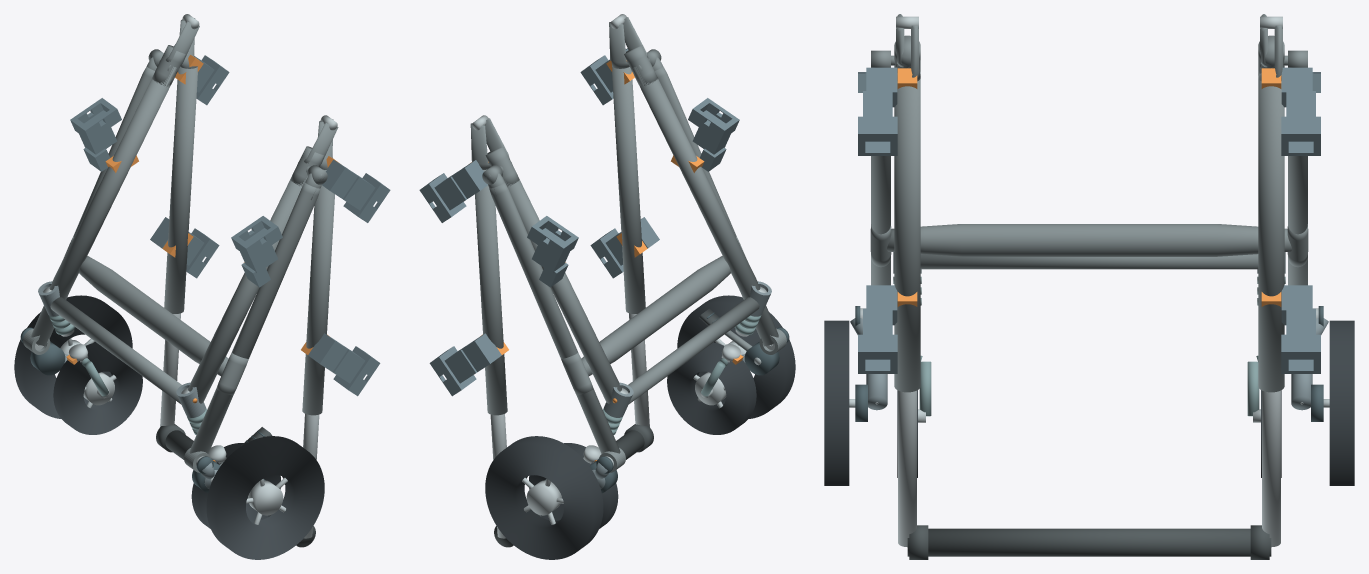
Rendered from w550_state3_wheel_S.glb.
3 views of the same model, side by side, from view 1: azimuth 30°, elevation 25°; view 2: azimuth 150°, elevation 25°; view 3: azimuth 270°, elevation 25° (orthographic). The views are drawn at different scales.
Parts seen in each view (by area): view 1: RL_tire.004, main_upper_1.005, main_lower_1.005, FR_tire.004, V46_rear_leg_-1.005, main_upper_-1.005, V46_rearbar.005, RR_tire.004, main_lower_-1.005, front_fixed_round_tube.004, Universal_Cabin_Receiver_H_-1, Universal_Cabin_Receiver_M_-1 (+18 smaller); view 2: RR_tire.004, main_upper_-1.005, main_lower_-1.005, FL_tire.004, V46_rear_leg_1.005, main_upper_1.005, V46_rearbar.005, main_lower_1.005, RL_tire.004, front_fixed_round_tube.004, Universal_Cabin_Receiver_H_1, Universal_Cabin_Receiver_M_1 (+18 smaller); view 3: V46_rearbar.005, round_handle.004, main_upper_1.005, main_upper_-1.005, front_fixed_round_tube.004, RL_tire.004, RR_tire.004, Universal_Cabin_Receiver_M_-1, Universal_Cabin_Receiver_M_1, Universal_Cabin_Receiver_H_1, Universal_Cabin_Receiver_H_-1, handle_slider_1.004 (+11 smaller).
Boxes of the visible parts, bbox=[...] form: RL_tire.004: bbox=[206, 436, 324, 559]; main_upper_1.005: bbox=[164, 67, 197, 313]; main_lower_1.005: bbox=[49, 66, 176, 299]; FR_tire.004: bbox=[53, 342, 142, 434]; V46_rear_leg_-1.005: bbox=[189, 182, 320, 453]; main_upper_-1.005: bbox=[302, 169, 334, 415]; V46_rearbar.005: bbox=[79, 256, 228, 375]; RR_tire.004: bbox=[14, 295, 132, 418]; main_lower_-1.005: bbox=[188, 177, 307, 403]; front_fixed_round_tube.004: bbox=[50, 297, 181, 404]; Universal_Cabin_Receiver_H_-1: bbox=[308, 333, 380, 396]; Universal_Cabin_Receiver_M_-1: bbox=[322, 159, 390, 222]; RR_tire.004: bbox=[485, 436, 603, 559]; main_upper_-1.005: bbox=[612, 67, 645, 313]; main_lower_-1.005: bbox=[633, 66, 760, 299]; FL_tire.004: bbox=[667, 342, 756, 434]; V46_rear_leg_1.005: bbox=[489, 182, 620, 453]; main_upper_1.005: bbox=[475, 169, 507, 415]; V46_rearbar.005: bbox=[581, 256, 730, 375]; main_lower_1.005: bbox=[502, 177, 621, 403]; RL_tire.004: bbox=[677, 295, 795, 418]; front_fixed_round_tube.004: bbox=[628, 297, 759, 404]; Universal_Cabin_Receiver_H_1: bbox=[429, 333, 501, 396]; Universal_Cabin_Receiver_M_1: bbox=[419, 160, 487, 222]; V46_rearbar.005: bbox=[887, 224, 1291, 256]; round_handle.004: bbox=[907, 528, 1271, 556]; main_upper_1.005: bbox=[1258, 79, 1284, 392]; main_upper_-1.005: bbox=[894, 79, 920, 392]; front_fixed_round_tube.004: bbox=[920, 254, 1258, 269]; RL_tire.004: bbox=[824, 320, 849, 485]; RR_tire.004: bbox=[1329, 320, 1354, 485]; Universal_Cabin_Receiver_M_-1: bbox=[858, 67, 897, 155]; Universal_Cabin_Receiver_M_1: bbox=[1281, 67, 1320, 155]; Universal_Cabin_Receiver_H_1: bbox=[1281, 285, 1320, 373]; Universal_Cabin_Receiver_H_-1: bbox=[858, 285, 897, 373]; handle_slider_1.004: bbox=[1262, 390, 1280, 547].
Size of the model in its own units: 0.3574 by 0.7426 by 0.641.
